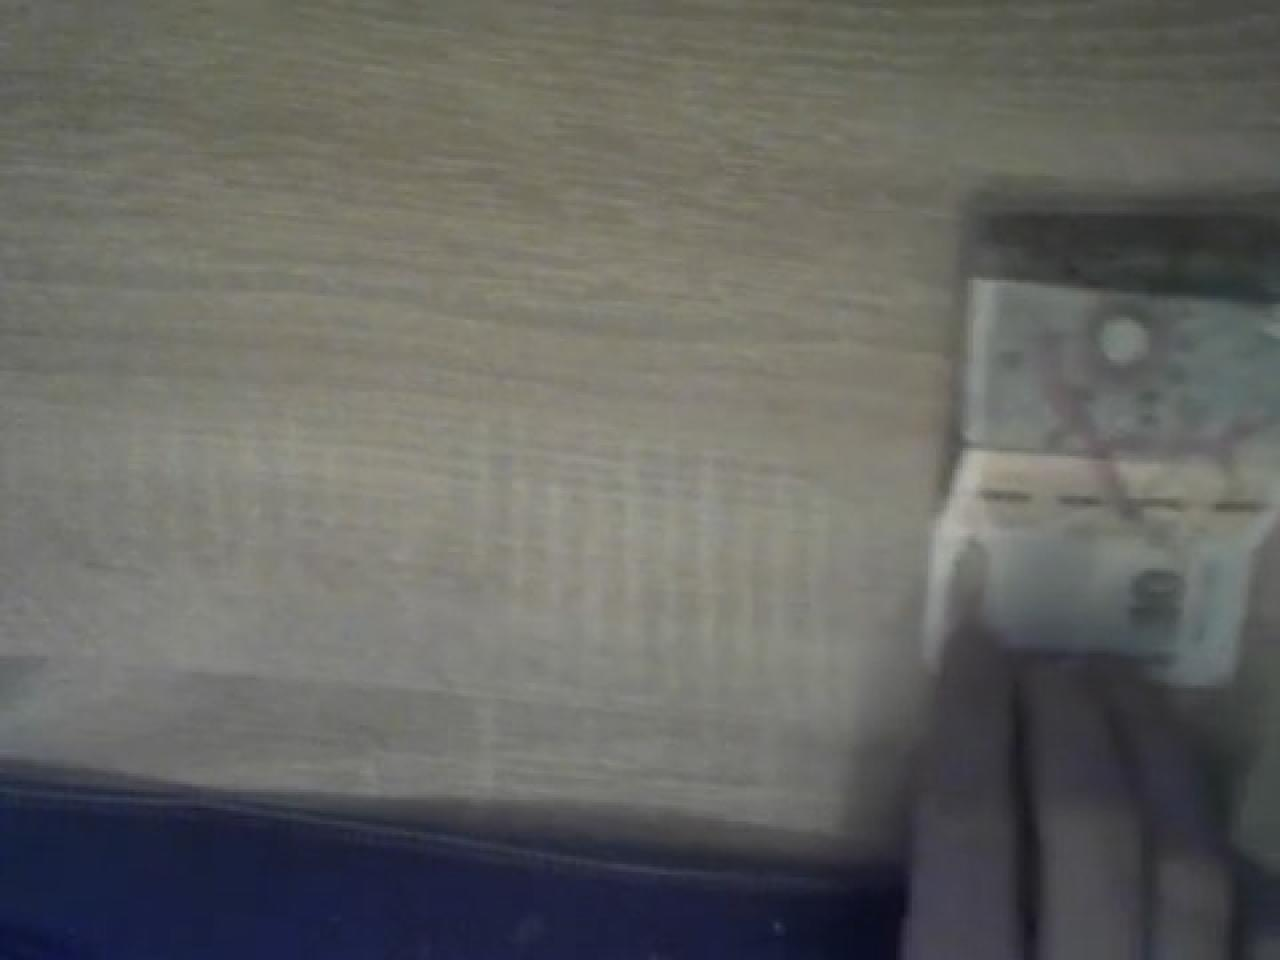10leva: (901, 208, 1280, 960)
